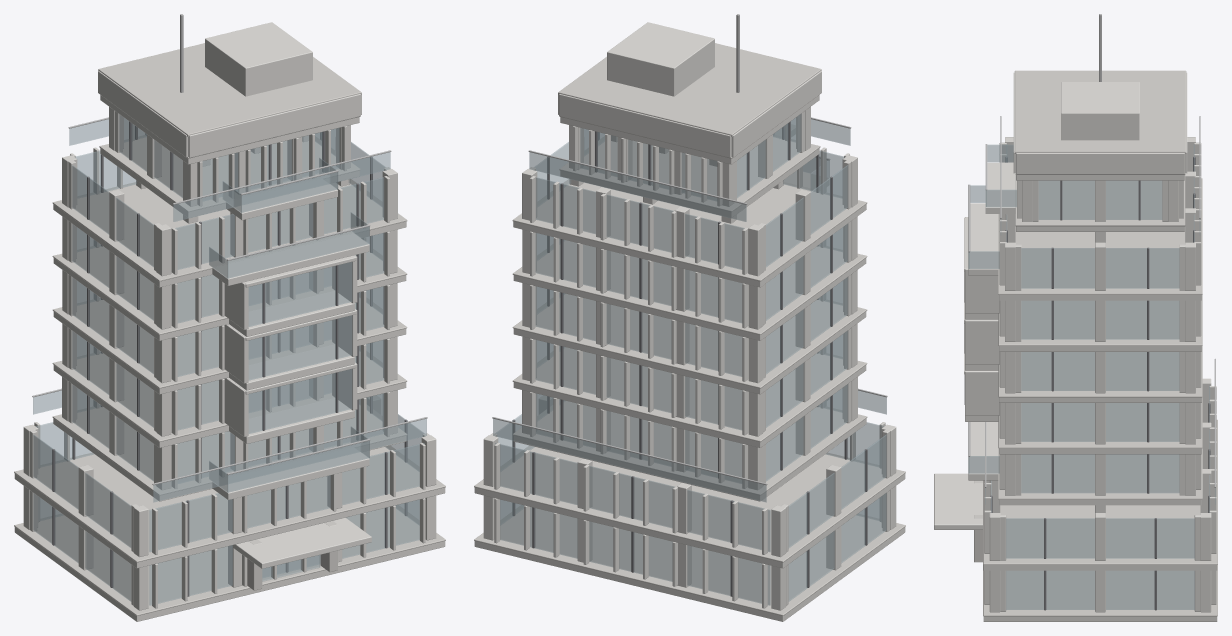
File: building.glb
3 views of the same model, side by side, from view 1: azimuth 30°, elevation 25°; view 2: azimuth 150°, elevation 25°; view 3: azimuth 270°, elevation 25° (orthographic). The views are drawn at different scales.
Parts seen in each view (by area): view 1: Floor_1, Floor_6, Floor_8, Floor_0, Floor_2, Floor_3, Floor_4, Floor_5, Floor_7; view 2: Floor_1, Floor_6, Floor_8, Floor_0, Floor_2, Floor_3, Floor_4, Floor_5, Floor_7; view 3: Floor_8, Floor_6, Floor_1, Floor_0, Floor_2, Floor_3, Floor_5, Floor_4, Floor_7.
Part boxes in pixels (x1,y1,x2,y2): Floor_1: [14, 396, 445, 568]; Floor_6: [52, 132, 407, 287]; Floor_8: [98, 14, 361, 164]; Floor_0: [14, 486, 445, 621]; Floor_2: [32, 377, 427, 502]; Floor_3: [52, 323, 407, 447]; Floor_4: [52, 270, 407, 394]; Floor_5: [52, 216, 407, 340]; Floor_7: [68, 107, 391, 221]; Floor_1: [474, 396, 905, 568]; Floor_6: [512, 132, 867, 287]; Floor_8: [558, 14, 821, 164]; Floor_0: [474, 486, 905, 621]; Floor_2: [492, 377, 887, 502]; Floor_3: [512, 323, 867, 447]; Floor_4: [512, 270, 867, 394]; Floor_5: [512, 216, 867, 340]; Floor_7: [528, 107, 851, 221]; Floor_8: [1013, 14, 1187, 180]; Floor_6: [968, 137, 1202, 300]; Floor_1: [983, 378, 1217, 570]; Floor_0: [934, 473, 1217, 621]; Floor_2: [968, 358, 1215, 505]; Floor_3: [964, 323, 1202, 454]; Floor_5: [964, 217, 1202, 351]; Floor_4: [964, 272, 1202, 402]; Floor_7: [985, 116, 1200, 234].
Size of the model in its own units: 19.66 by 32.61 by 16.34.
